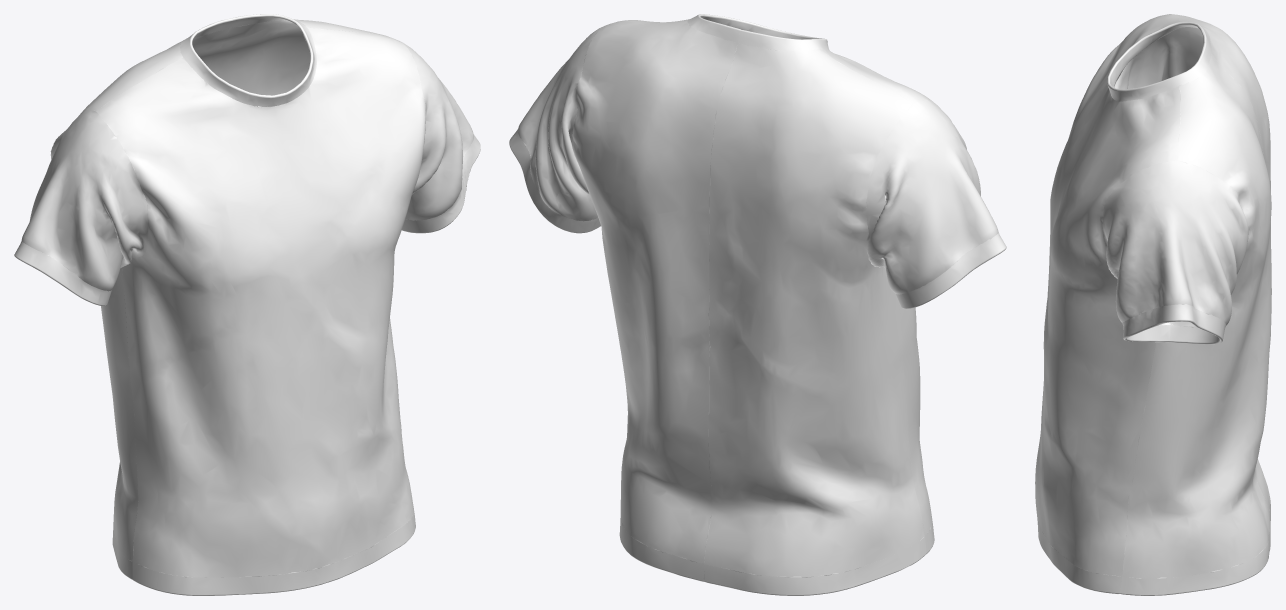
The model's file is tshirt.glb.
3 renders of one model, left to right at view 1: azimuth 30°, elevation 25°; view 2: azimuth 150°, elevation 25°; view 3: azimuth 270°, elevation 25°, orthographic. The views are drawn at different scales.
Parts seen in each view (by area): view 1: t-shirt.002_2; view 2: t-shirt.002_2; view 3: t-shirt.002_2.
Part boxes in pixels (x1,y1,x2,y2): t-shirt.002_2: [14, 14, 480, 595]; t-shirt.002_2: [509, 14, 1006, 595]; t-shirt.002_2: [1035, 14, 1271, 595].
Size of the model in its own units: 0.6945 by 0.72 by 0.3112.
Materials: 1 (1 with a texture image).
